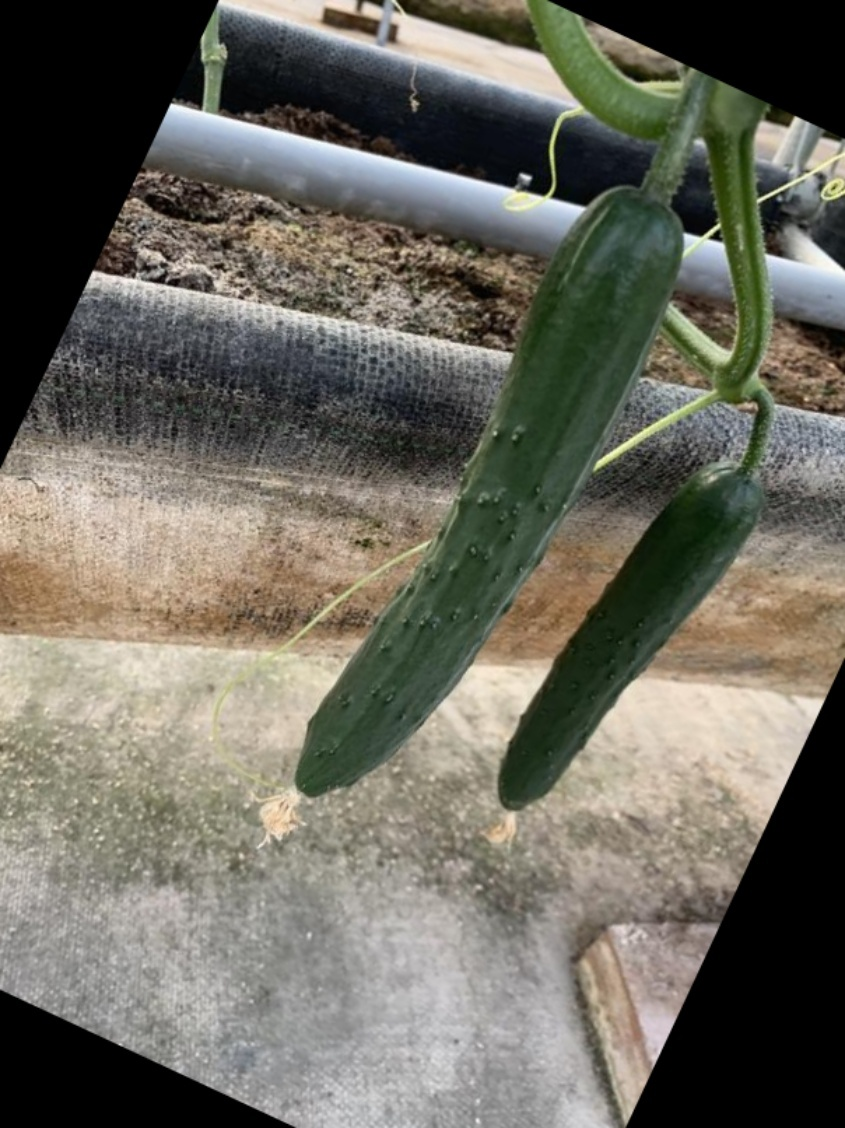mature: (490, 475, 754, 814)
